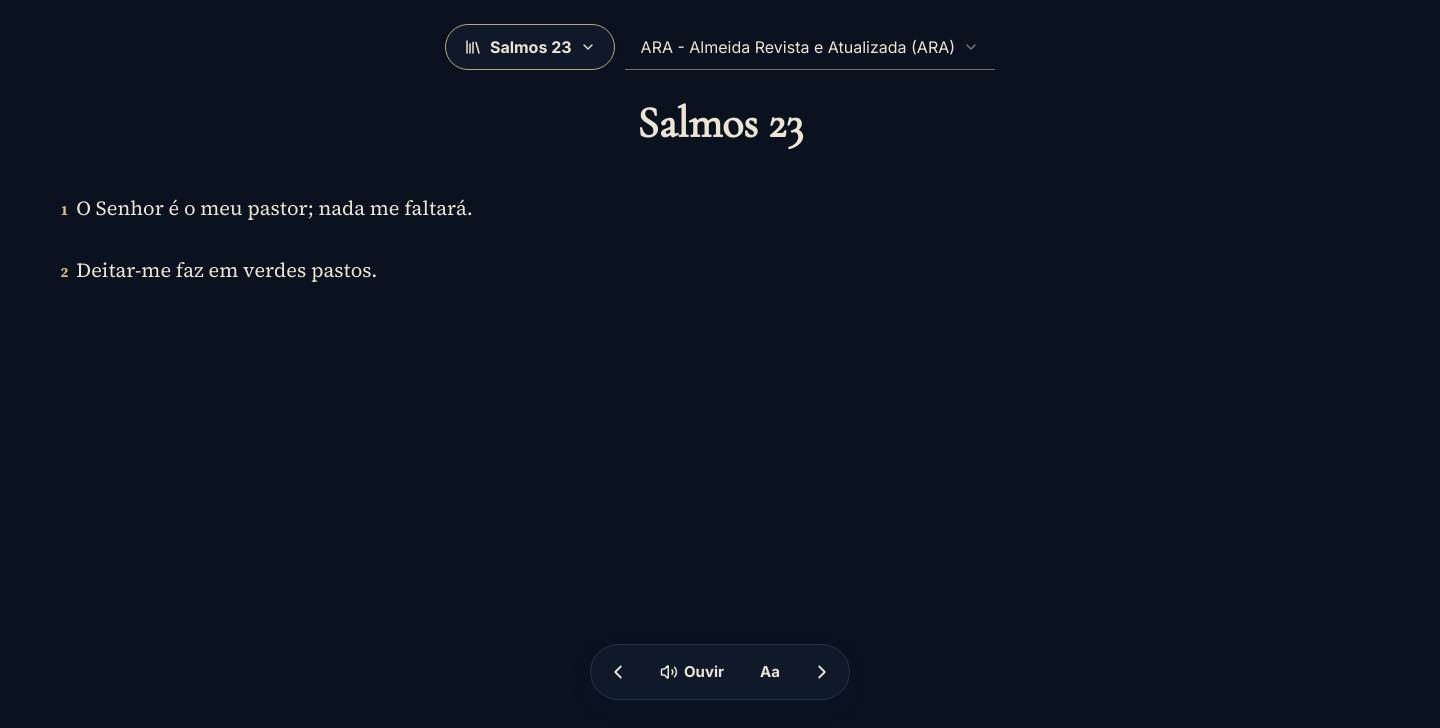
Test case: Bíblia: versículos salvos aparecem na Estante › Salvar na barra do versículo mostra o versículo na Estante; tocar abre o capítulo; X remove
Earlier steps of the test are not shown.
# Volta para a Estante: o salvo aparece com a referência e o texto.
Click the button "Salmos 23" at point(530, 47), box x1=445 y1=24 x2=615 y2=70
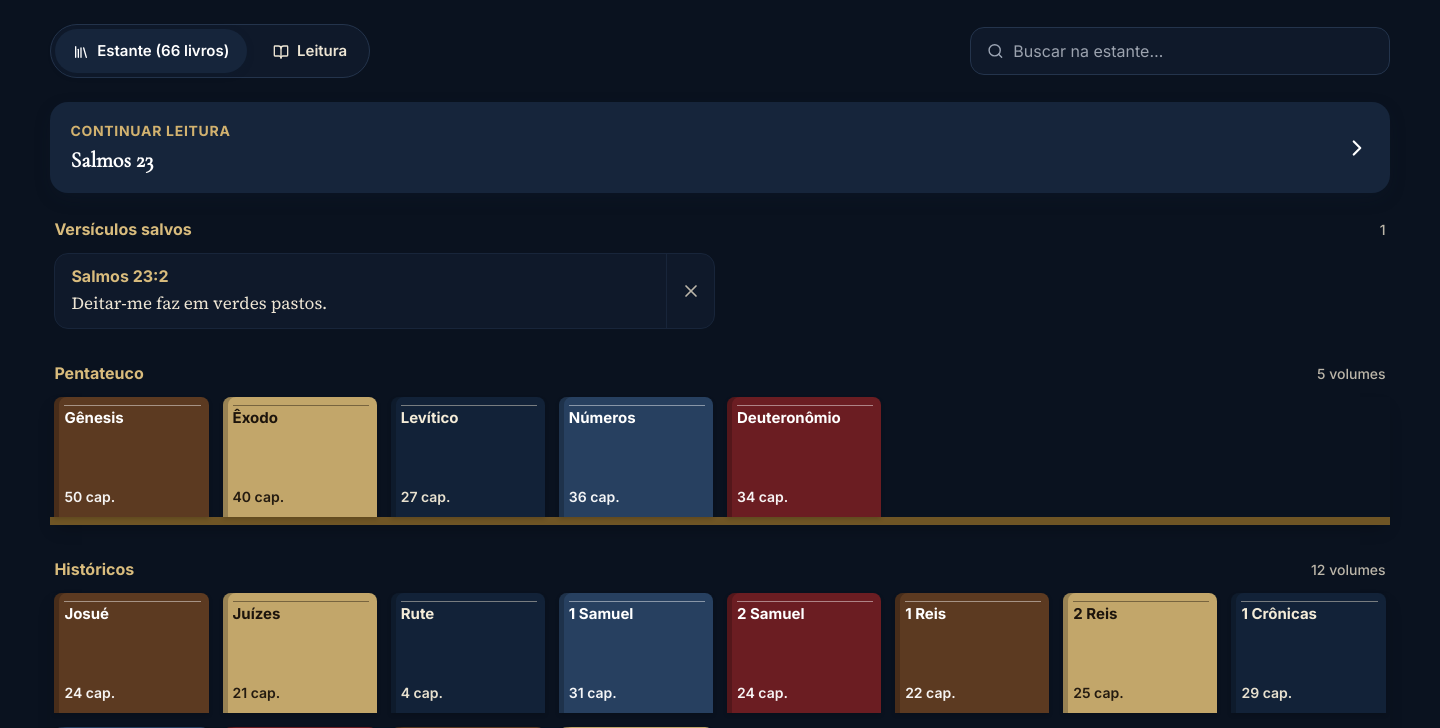
Expected: the element "Versículos salvos" shows "Deitar-me faz em verdes pastos."
Click the button "Salmos 23:2 Deitar-me faz em verdes pastos." at point(120, 276), box x1=55 y1=254 x2=666 y2=328
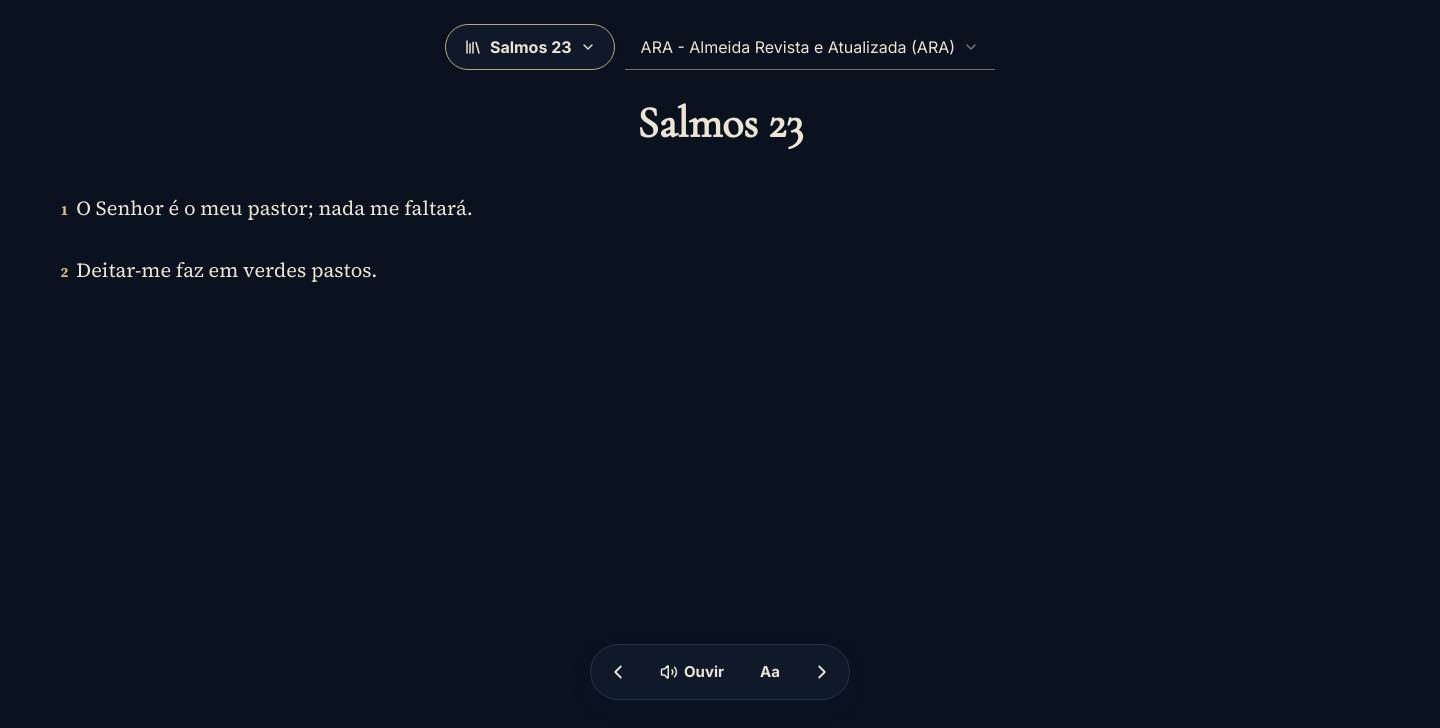
Click the text "Deitar-me faz em verdes pastos." at point(227, 270), box x1=76 y1=256 x2=377 y2=284
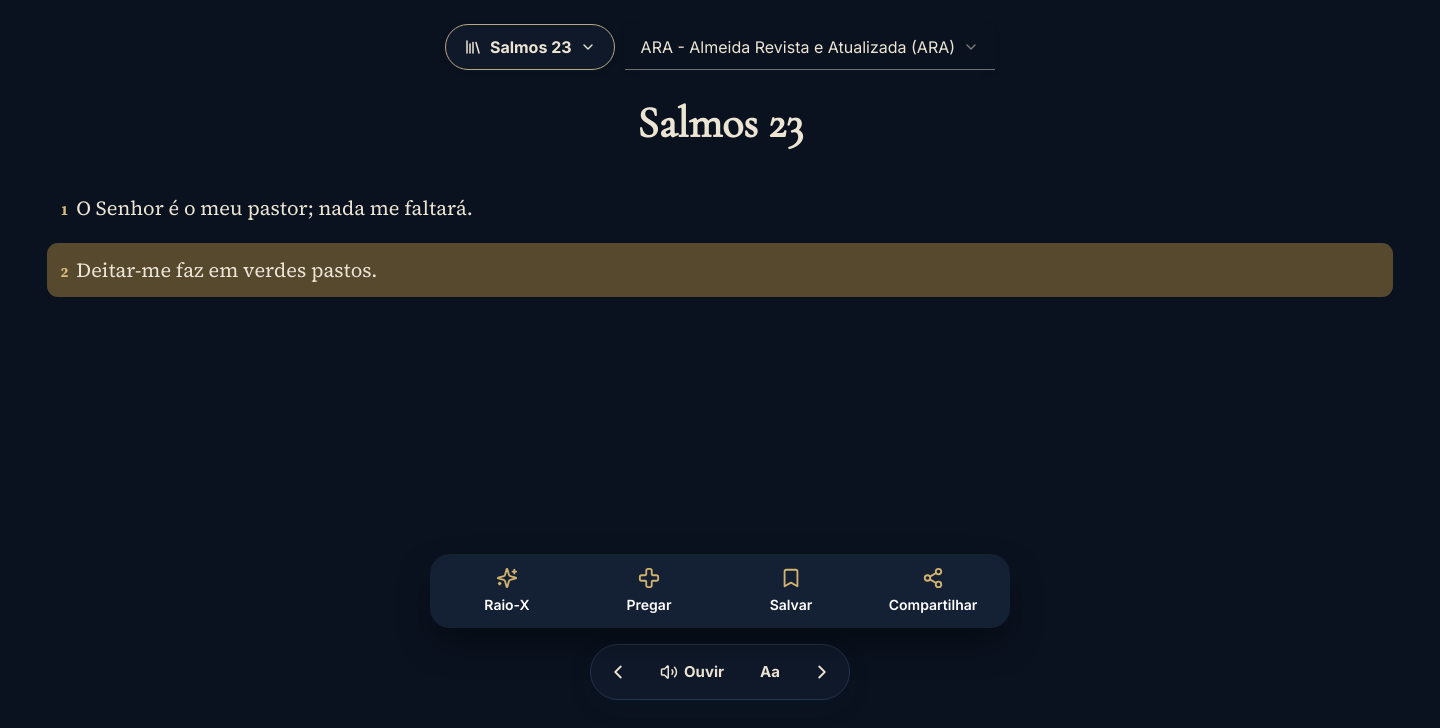
Click the button "Salvar" at point(791, 591), box x1=720 y1=562 x2=862 y2=620
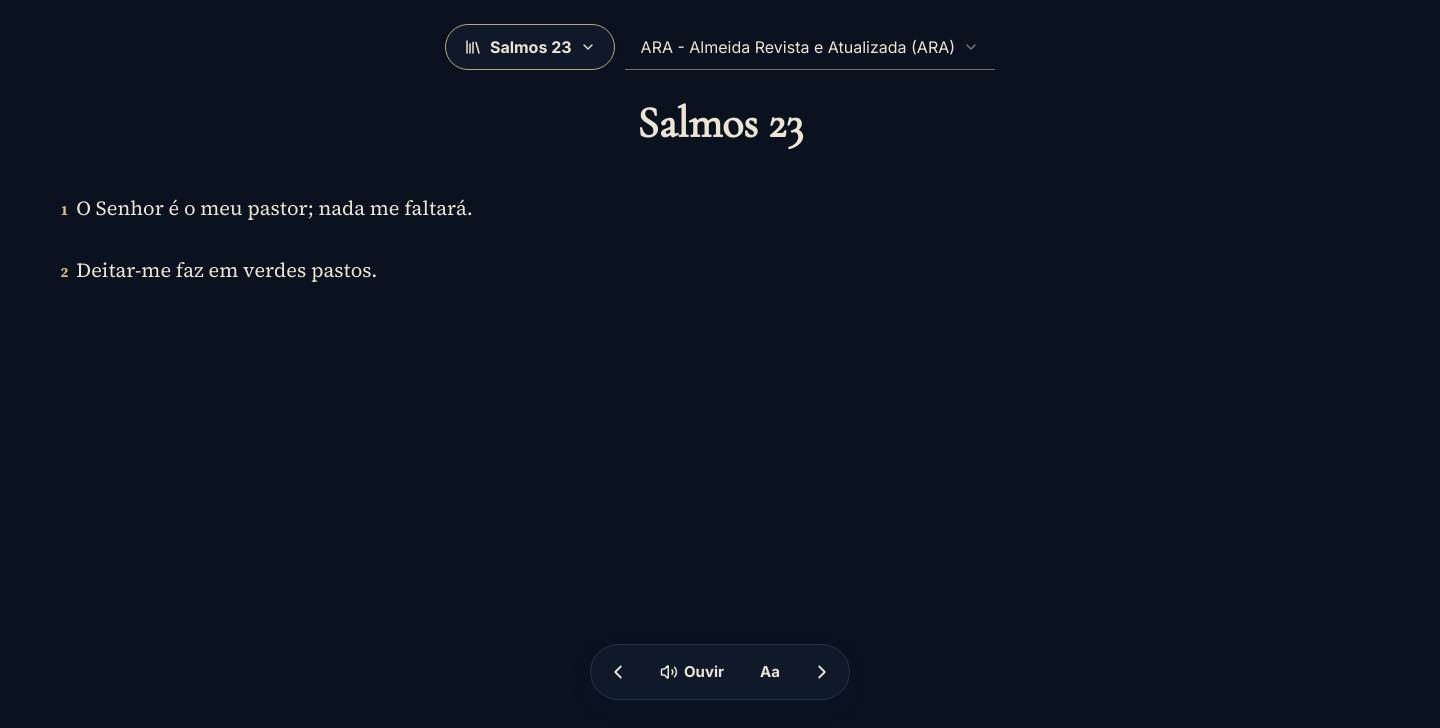
Click the button "Salmos 23" at point(530, 47), box x1=445 y1=24 x2=615 y2=70
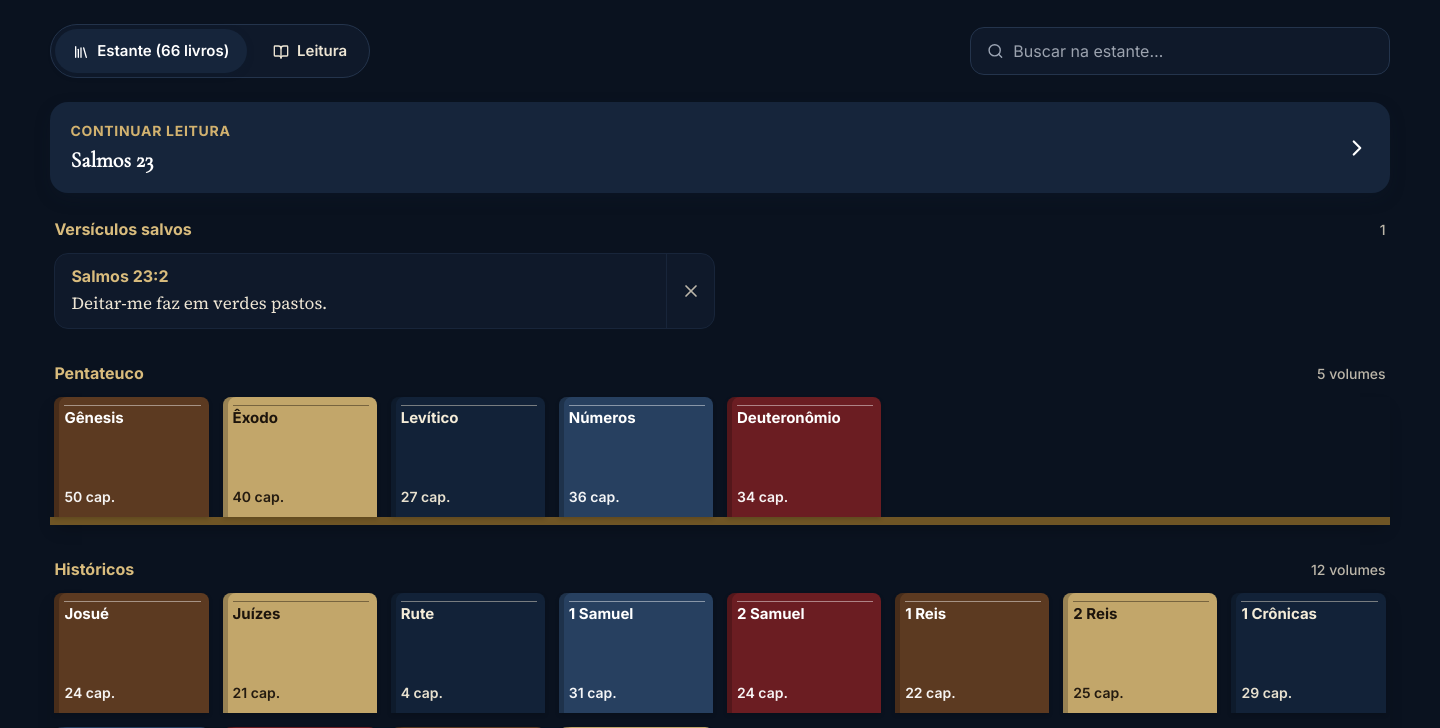
Click the button named "Remover Salmos 23:2 dos salvos" at point(690, 291), box x1=666 y1=254 x2=714 y2=328
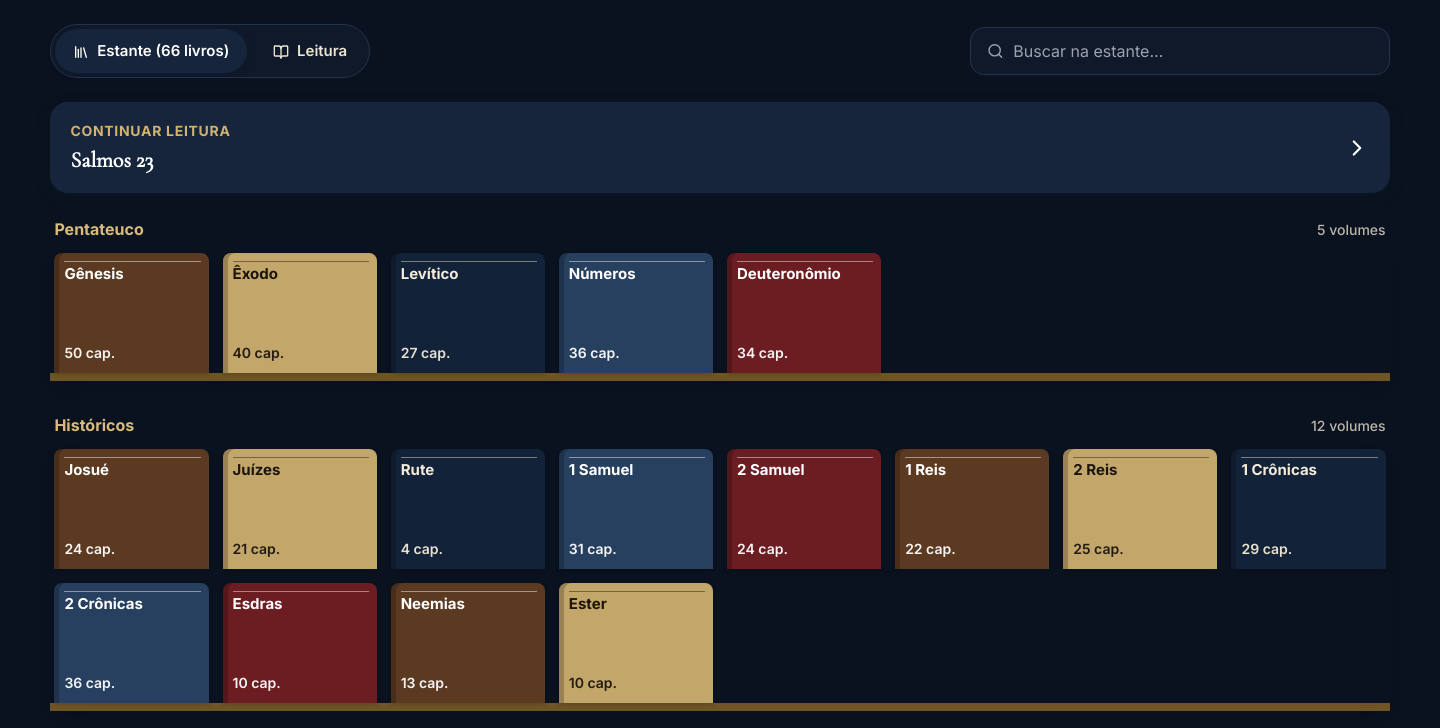
Expected: the text "Versículos salvos" is gone
